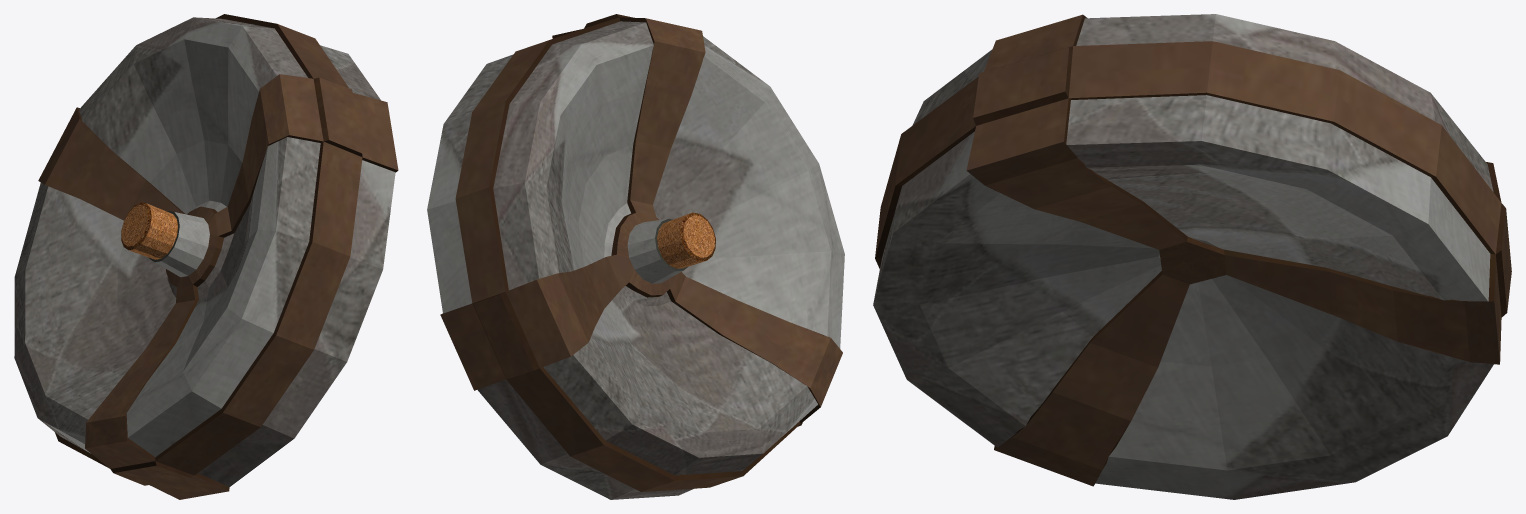
Rendered from LargeWaterskinEmpty.fbx.
The picture shows the model from 3 angles, left to right: view 1: azimuth 30°, elevation 25°; view 2: azimuth 150°, elevation 25°; view 3: azimuth 270°, elevation 25°; orthographic projection. The views are drawn at different scales.
Visible parts, largest first — view 1: ZomboidLargeWaterskin; view 2: ZomboidLargeWaterskin; view 3: ZomboidLargeWaterskin.
Part boxes in pixels (bbox=[...]): ZomboidLargeWaterskin: bbox=[14, 14, 398, 499]; ZomboidLargeWaterskin: bbox=[427, 14, 844, 499]; ZomboidLargeWaterskin: bbox=[873, 14, 1511, 499].
Bounding box in the file's own units: 0.1362 × 0.1831 × 0.1916.
